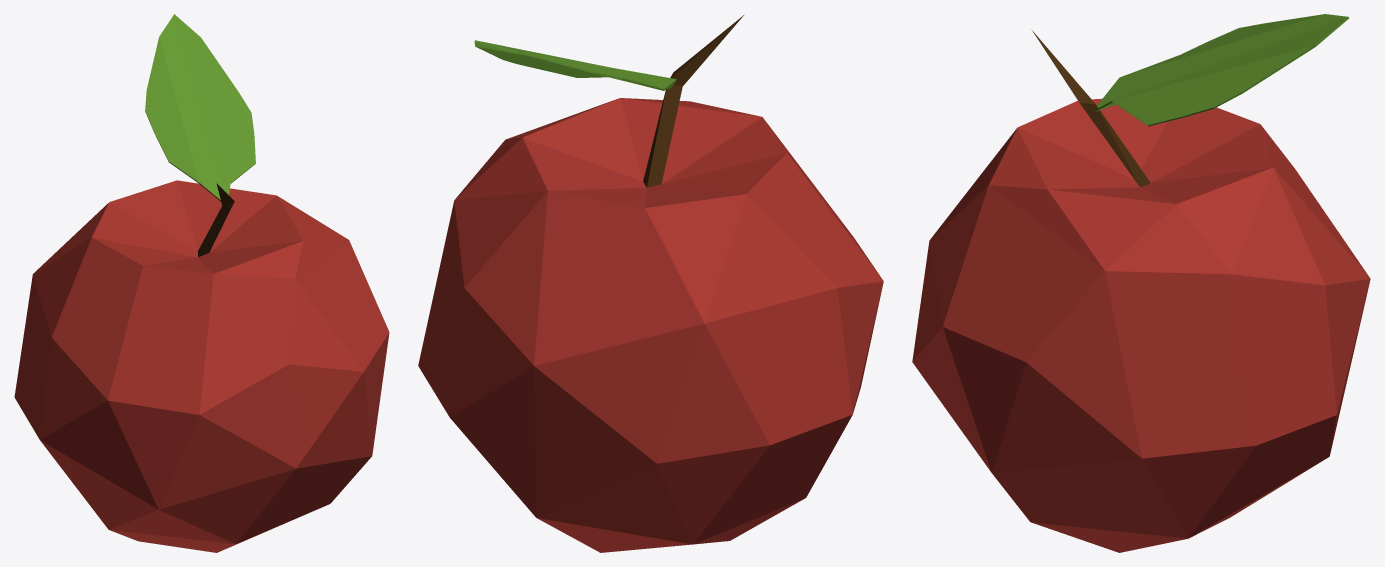
Rendered from apple.fbx.
3 renders of one model, left to right at view 1: azimuth 30°, elevation 25°; view 2: azimuth 150°, elevation 25°; view 3: azimuth 270°, elevation 25°, orthographic. The views are drawn at different scales.
Visible parts, largest first — view 1: Apple; view 2: Apple; view 3: Apple.
Part boxes in pixels (left/top/right/bottom): Apple: left=14, top=14, right=389, bottom=552; Apple: left=418, top=15, right=883, bottom=552; Apple: left=912, top=14, right=1370, bottom=552.
Size of the model in its own units: 1.14 by 1.5 by 1.14.
